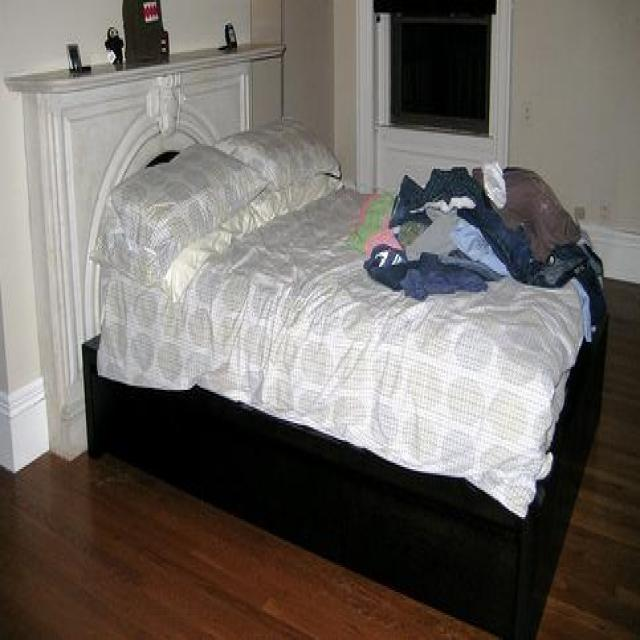bed: (81, 122, 610, 640)
